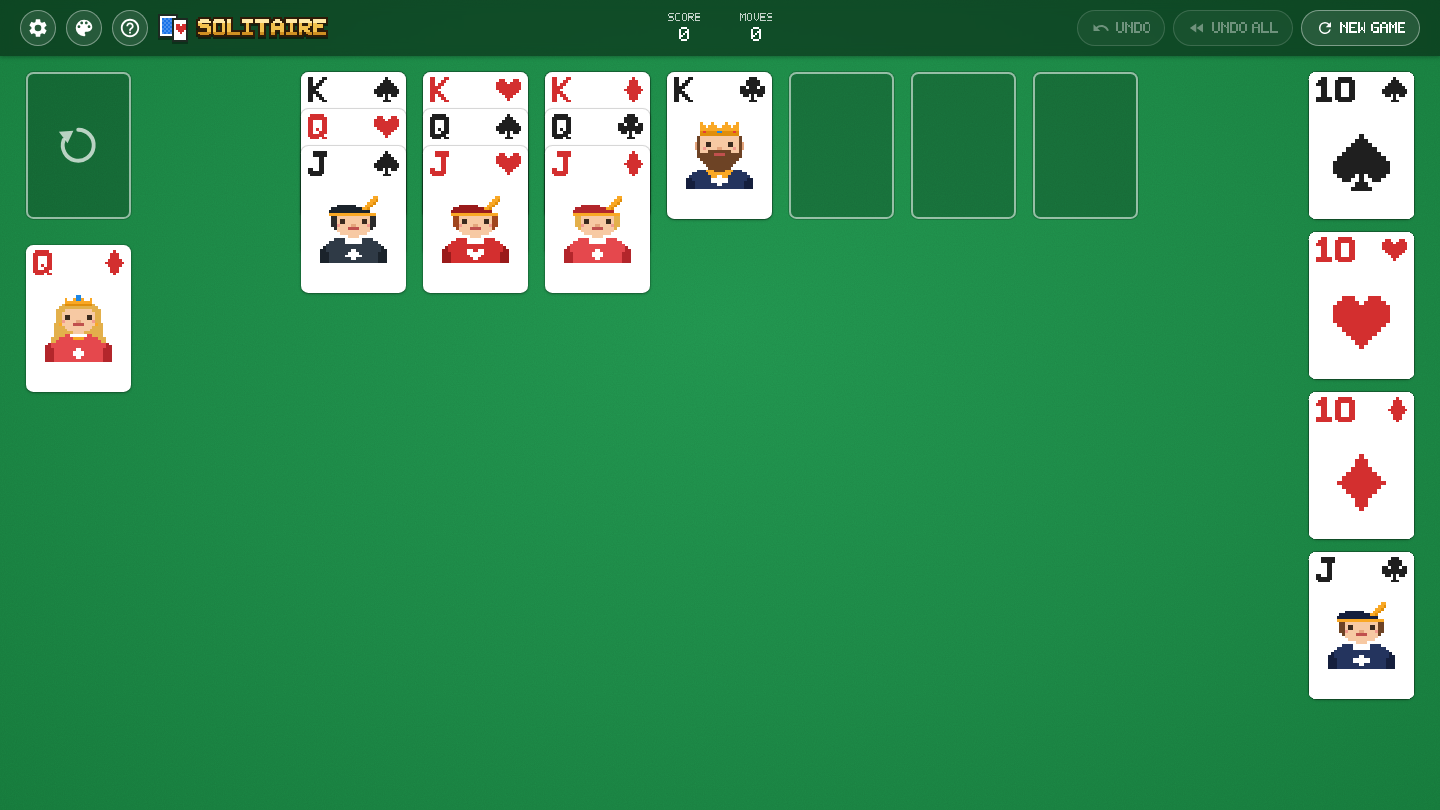
Test: auto-complete › starts after the move that makes it possible
The image size is (1440, 810).
expect the button named "Undo" is disabled: met, box left=1077, top=10, right=1165, bottom=46
Click the button named "Q of diamonds" at coordinates (78, 318), box left=26, top=245, right=131, bottom=392
Wait 1200 ms
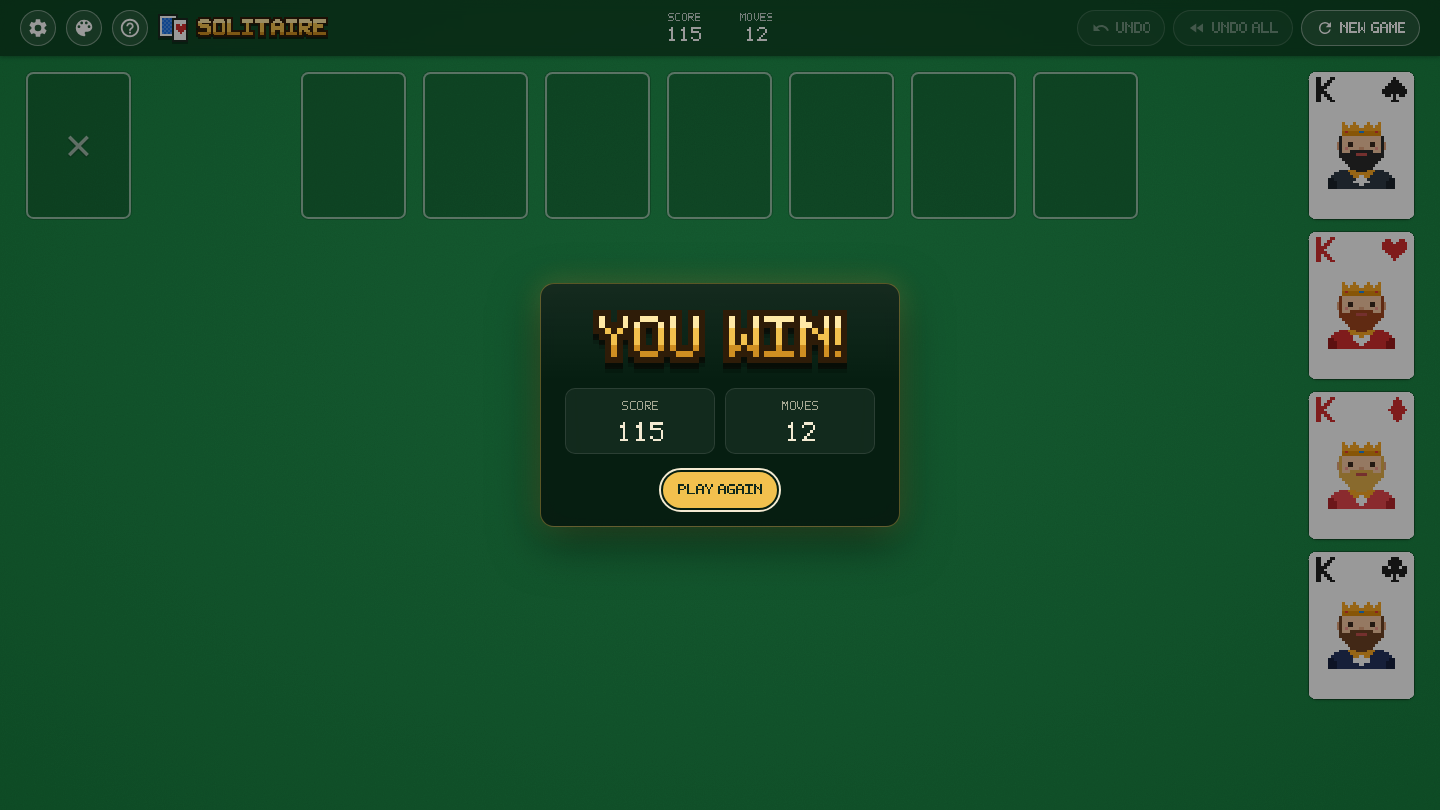
expect the button named "Undo" is disabled: met, box left=1077, top=10, right=1165, bottom=46
expect the dialog named "You win!" is shown: met, box left=540, top=283, right=900, bottom=526
